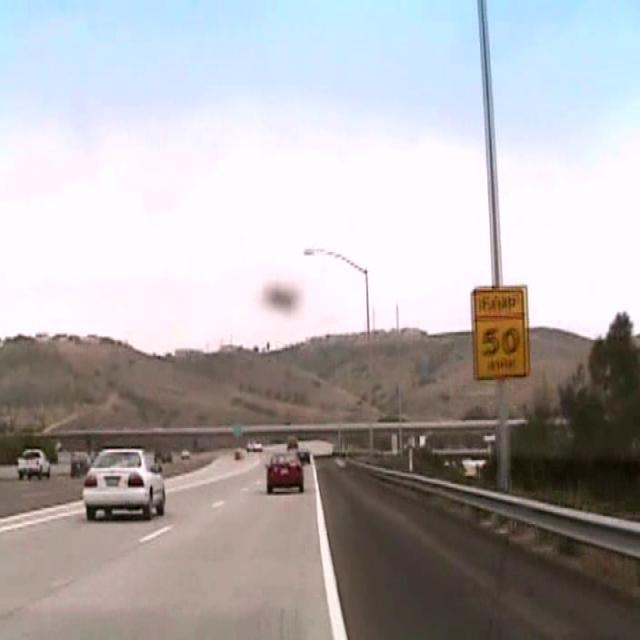speedLimit50: (470, 283, 529, 381)
